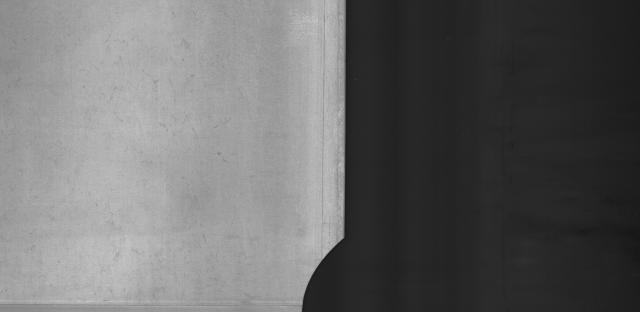crescent_gap: (290, 228, 370, 312)
welding_line: (1, 295, 322, 310)
